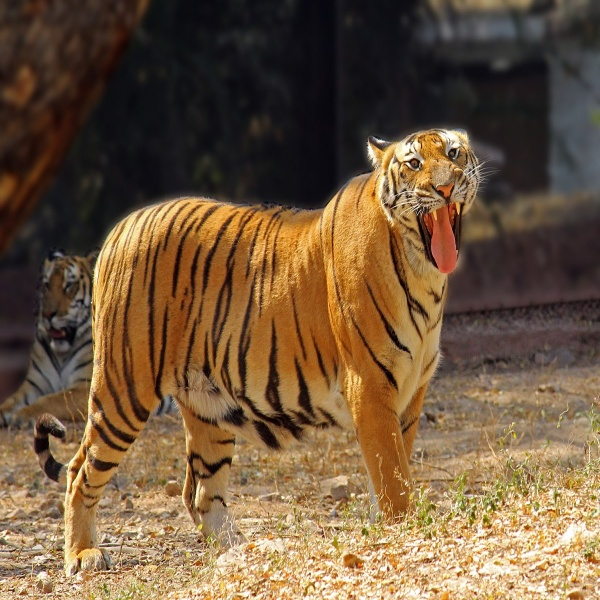Tiger: (32, 125, 490, 586), (3, 247, 117, 433)
